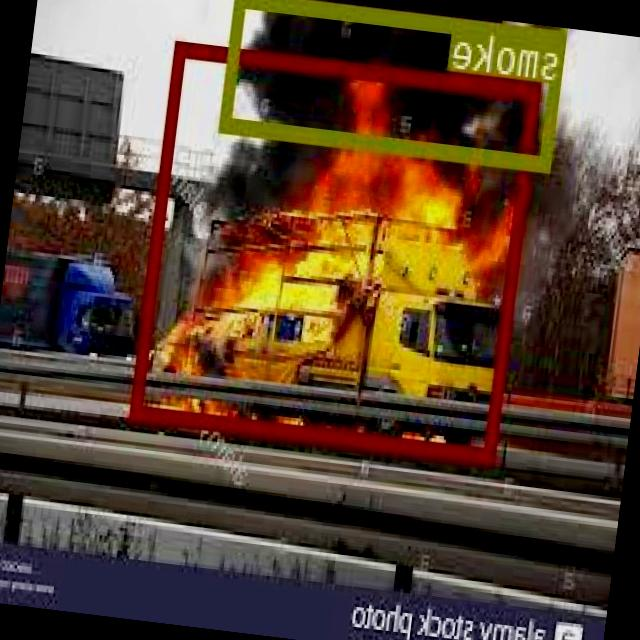fire: (132, 38, 542, 460)
smoke: (221, 0, 570, 170)
